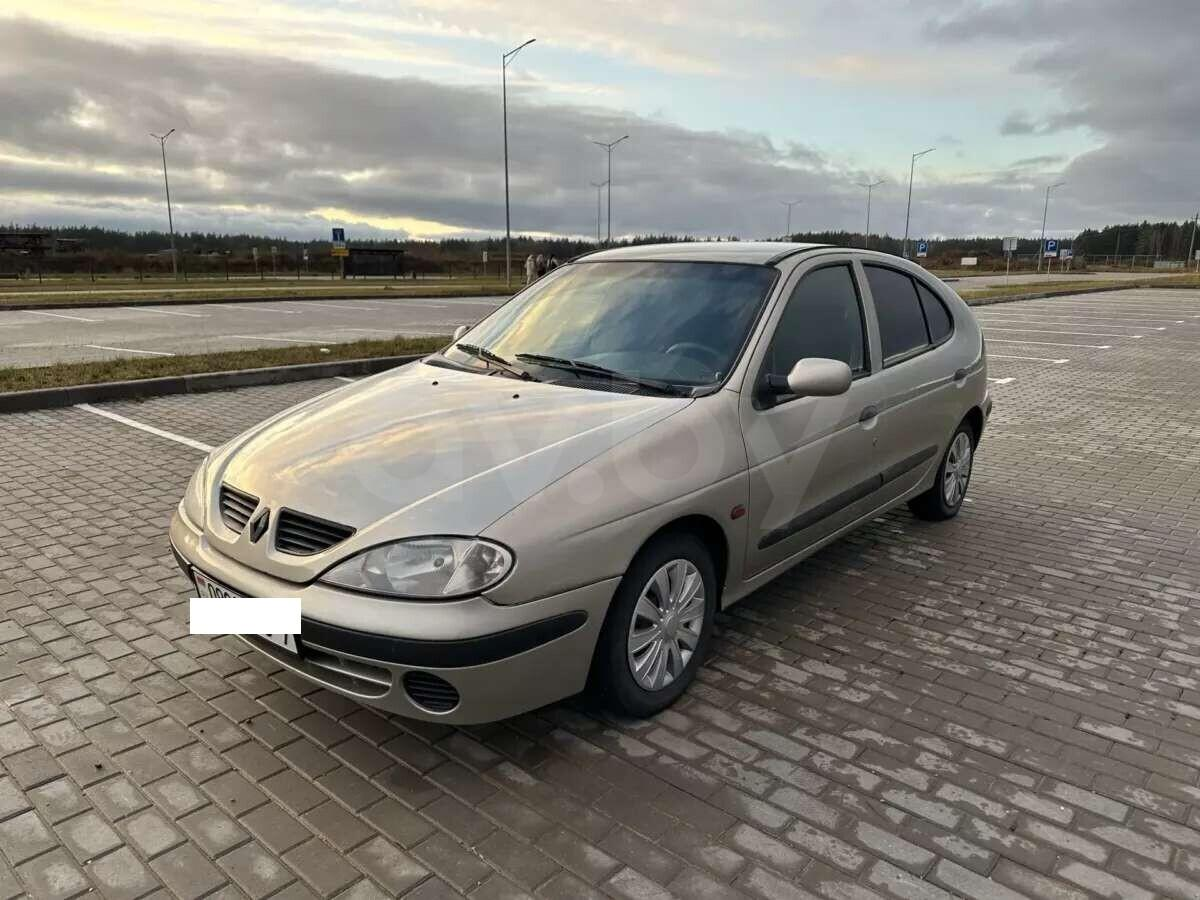Megane_1999-2003: (166, 239, 1001, 733)
